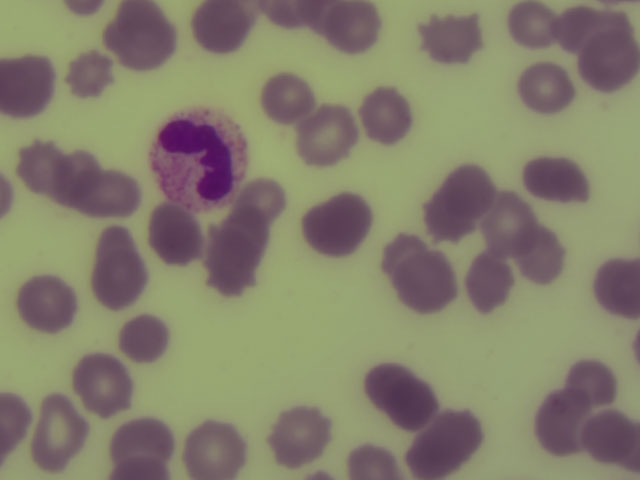RBC: (87, 227, 157, 308), (104, 1, 181, 73), (405, 412, 485, 480), (183, 418, 255, 480), (304, 192, 371, 257), (302, 190, 369, 255), (203, 235, 270, 300), (268, 403, 335, 468), (459, 252, 526, 317), (425, 164, 492, 229), (293, 102, 360, 167), (139, 203, 206, 268), (394, 249, 461, 314), (29, 394, 89, 464), (573, 32, 639, 93), (416, 9, 488, 64), (532, 390, 591, 455), (72, 355, 135, 413), (19, 274, 78, 334), (1, 54, 57, 115), (192, 1, 257, 51), (361, 83, 412, 146), (322, 1, 383, 53), (513, 63, 576, 113), (525, 154, 587, 202), (516, 227, 569, 283), (483, 192, 535, 247), (116, 313, 174, 362), (389, 376, 442, 429), (587, 411, 639, 465), (506, 1, 564, 48), (261, 72, 313, 122), (12, 138, 61, 191), (64, 50, 116, 99), (1, 394, 39, 460), (93, 165, 142, 216), (365, 354, 409, 410), (56, 148, 98, 206), (593, 259, 636, 314), (571, 359, 618, 408), (566, 1, 625, 38), (268, 1, 330, 33), (110, 450, 174, 480), (110, 415, 174, 445), (1, 173, 17, 216)
WBC: (152, 115, 253, 212)
